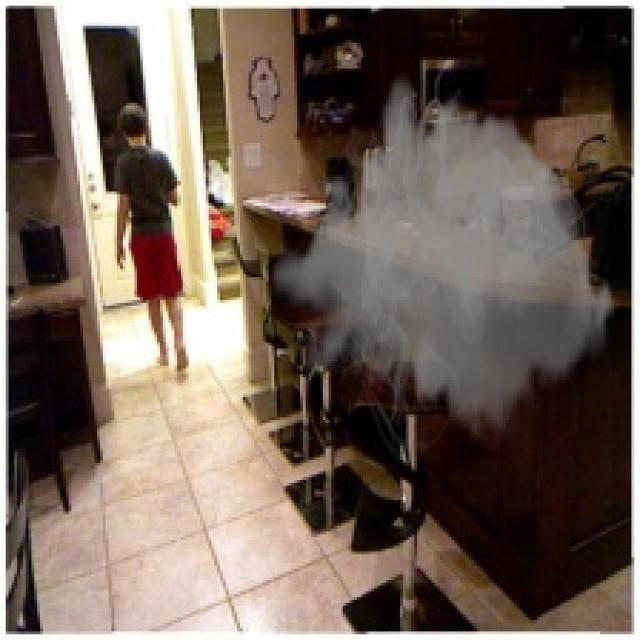Smoke: (268, 60, 618, 469)
